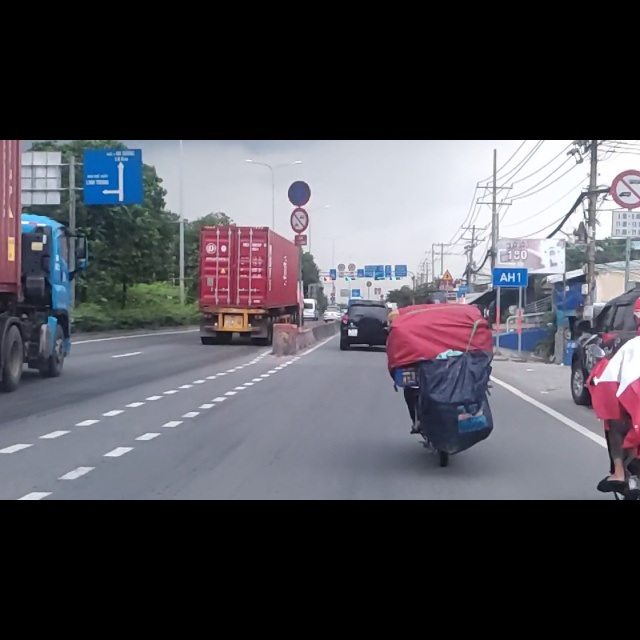bien_chi_dan: (610, 53, 640, 123), (287, 71, 311, 116), (289, 120, 310, 164)
